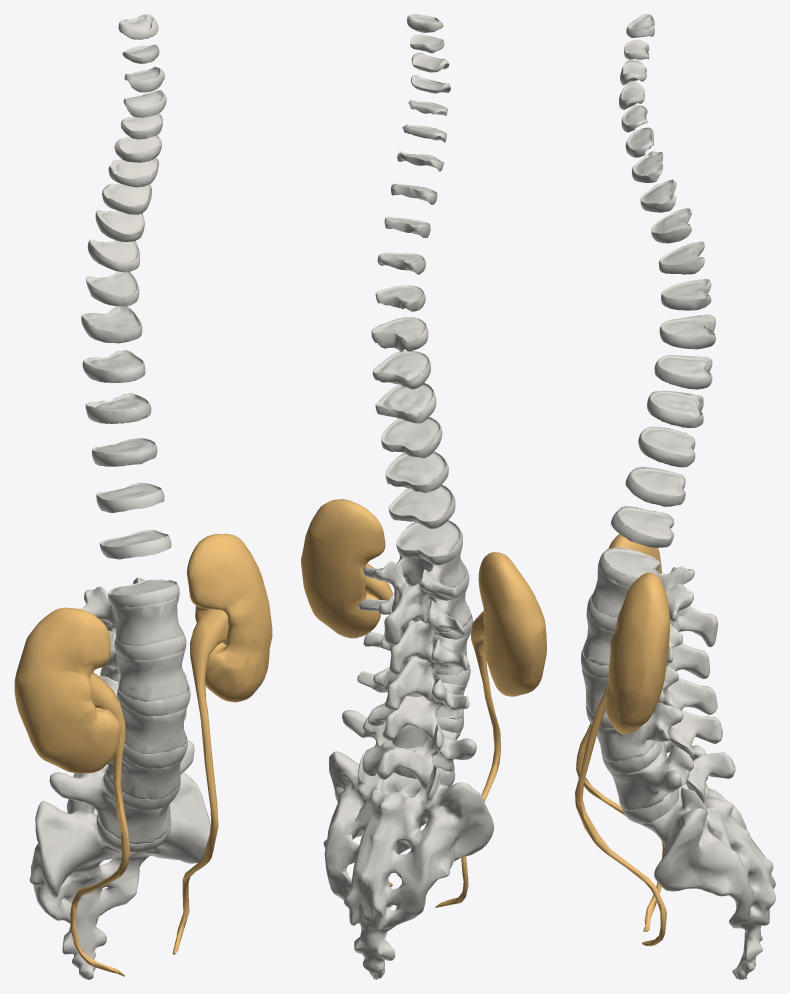
The model's file is lombar.glb.
The picture shows the model from 3 angles, left to right: view 1: azimuth 30°, elevation 25°; view 2: azimuth 150°, elevation 25°; view 3: azimuth 270°, elevation 25°; orthographic projection. The views are drawn at different scales.
Parts seen in each view (by area): view 1: discos-intervertebrais, coluna-lombar, sacro, rim-direito, rim-esquerdo, ureter-esquerdo, ureter-direito; view 2: coluna-lombar, sacro, discos-intervertebrais, rim-esquerdo, rim-direito, ureter-direito; view 3: discos-intervertebrais, coluna-lombar, sacro, rim-esquerdo, ureter-esquerdo, ureter-direito, rim-direito.
Boxes of the visible parts, <box> form: discos-intervertebrais: <box>81,14,179,607</box>; coluna-lombar: <box>49,577,194,853</box>; sacro: <box>29,772,210,979</box>; rim-direito: <box>14,607,120,773</box>; rim-esquerdo: <box>186,533,272,702</box>; ureter-esquerdo: <box>172,609,228,954</box>; ureter-direito: <box>70,673,129,976</box>; coluna-lombar: <box>342,546,476,789</box>; sacro: <box>323,751,494,979</box>; discos-intervertebrais: <box>371,14,462,564</box>; rim-esquerdo: <box>301,499,385,638</box>; rim-direito: <box>478,552,546,696</box>; ureter-direito: <box>435,611,501,907</box>; discos-intervertebrais: <box>598,14,715,587</box>; coluna-lombar: <box>581,566,735,824</box>; sacro: <box>640,745,775,979</box>; rim-esquerdo: <box>606,572,669,734</box>; ureter-esquerdo: <box>575,688,666,946</box>; ureter-direito: <box>576,723,664,931</box>; rim-direito: <box>608,534,661,573</box>.
Size of the model in its own units: 0.178 by 0.6681 by 0.1269.
